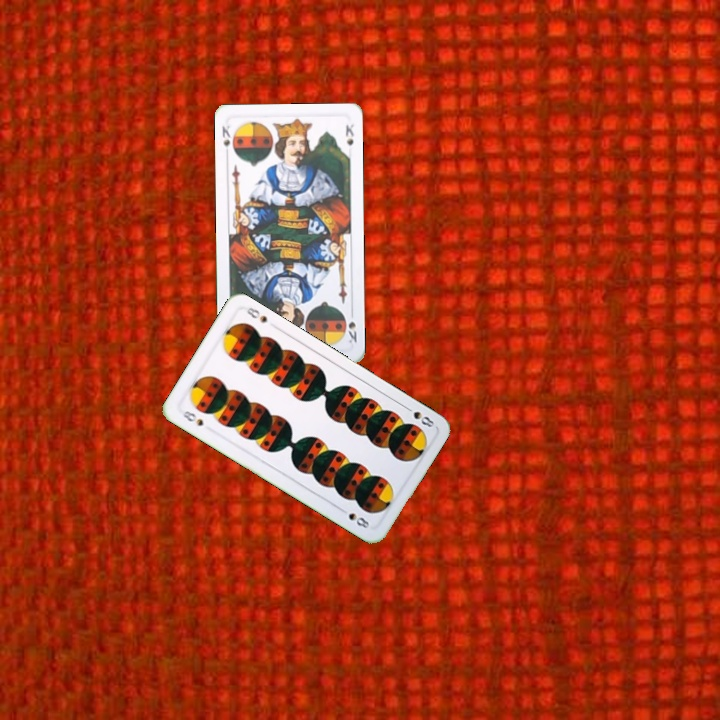S8: (400, 402, 437, 430), (178, 406, 206, 429)
SK: (218, 122, 238, 156), (344, 306, 359, 347)
